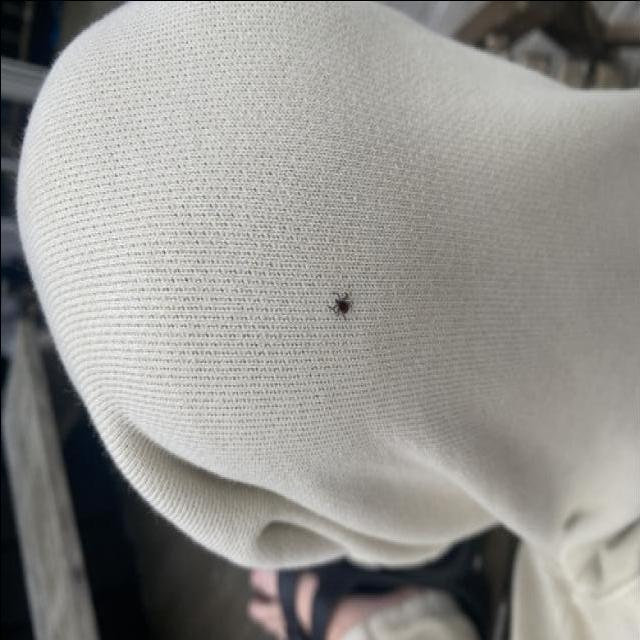Ixodes Ricinus-F: (326, 287, 356, 321)
